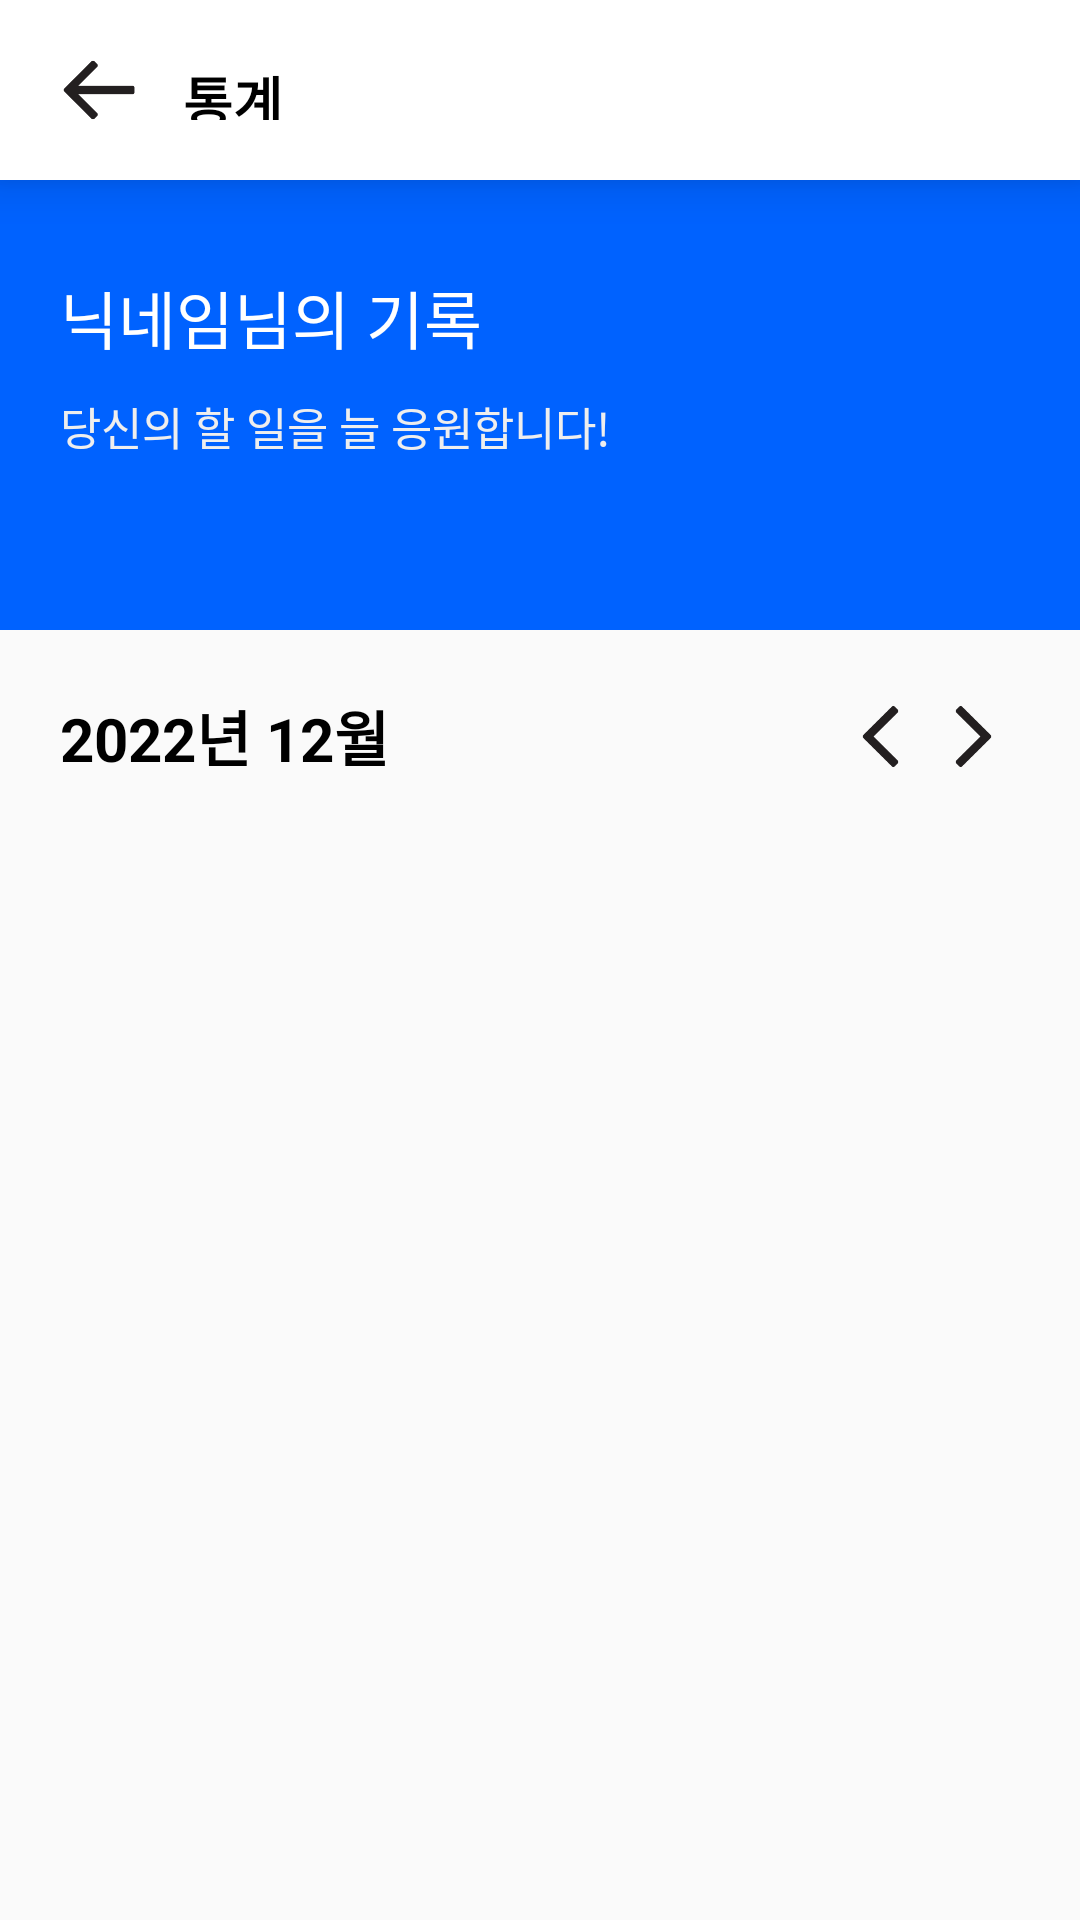

Point at icon controls on the screen. Image size 1080px x 1920px, points as [x,y].
back arrow: [99,90]
left arrow: [880,736]
right arrow: [974,736]
